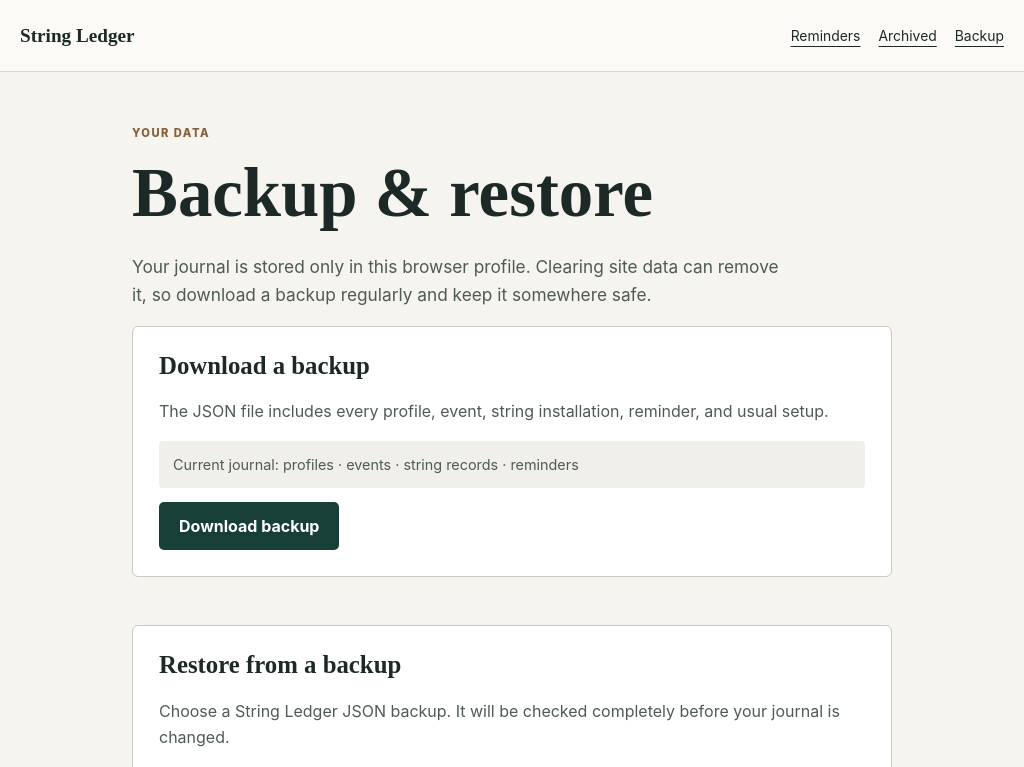
Test: backup page › downloads the complete current journal as JSON
Click the button "Download backup" at (249, 526), box [159,502,340,550]
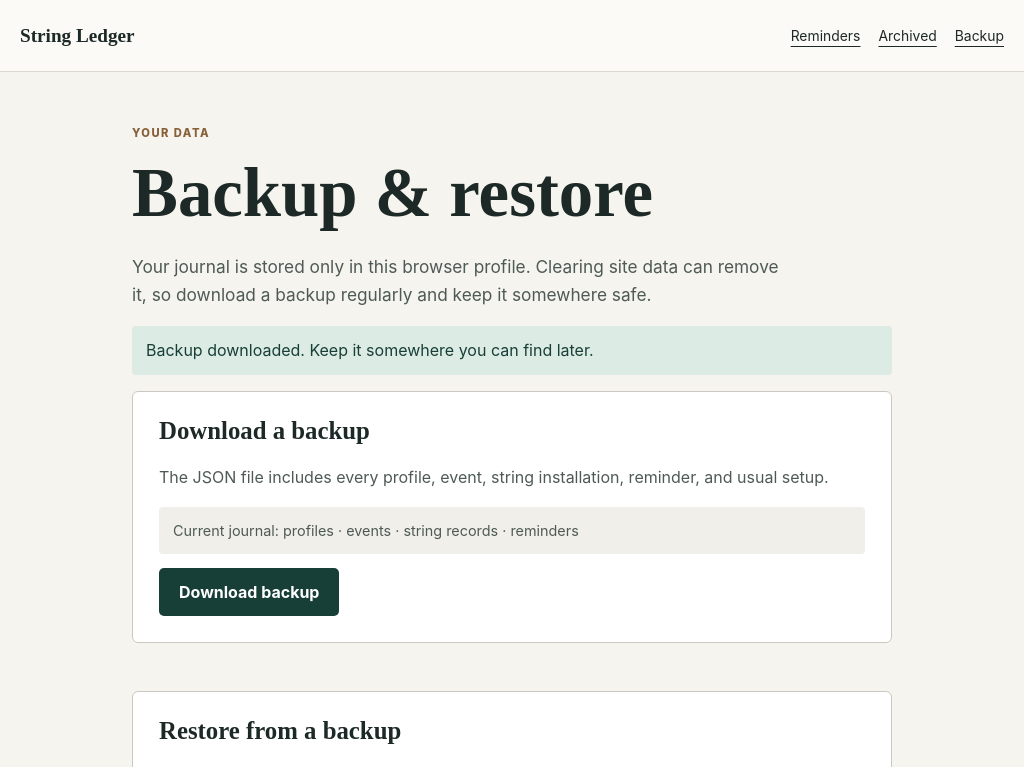
Now the message shows "Backup downloaded", box [146,340,594,360]
